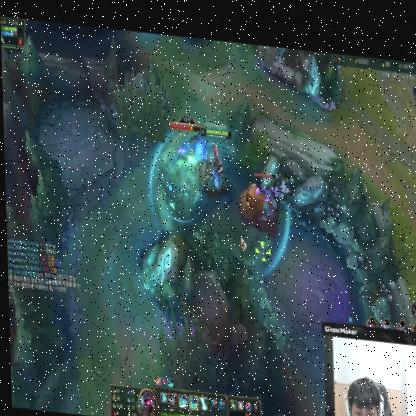streamer: (335, 367, 394, 416)
